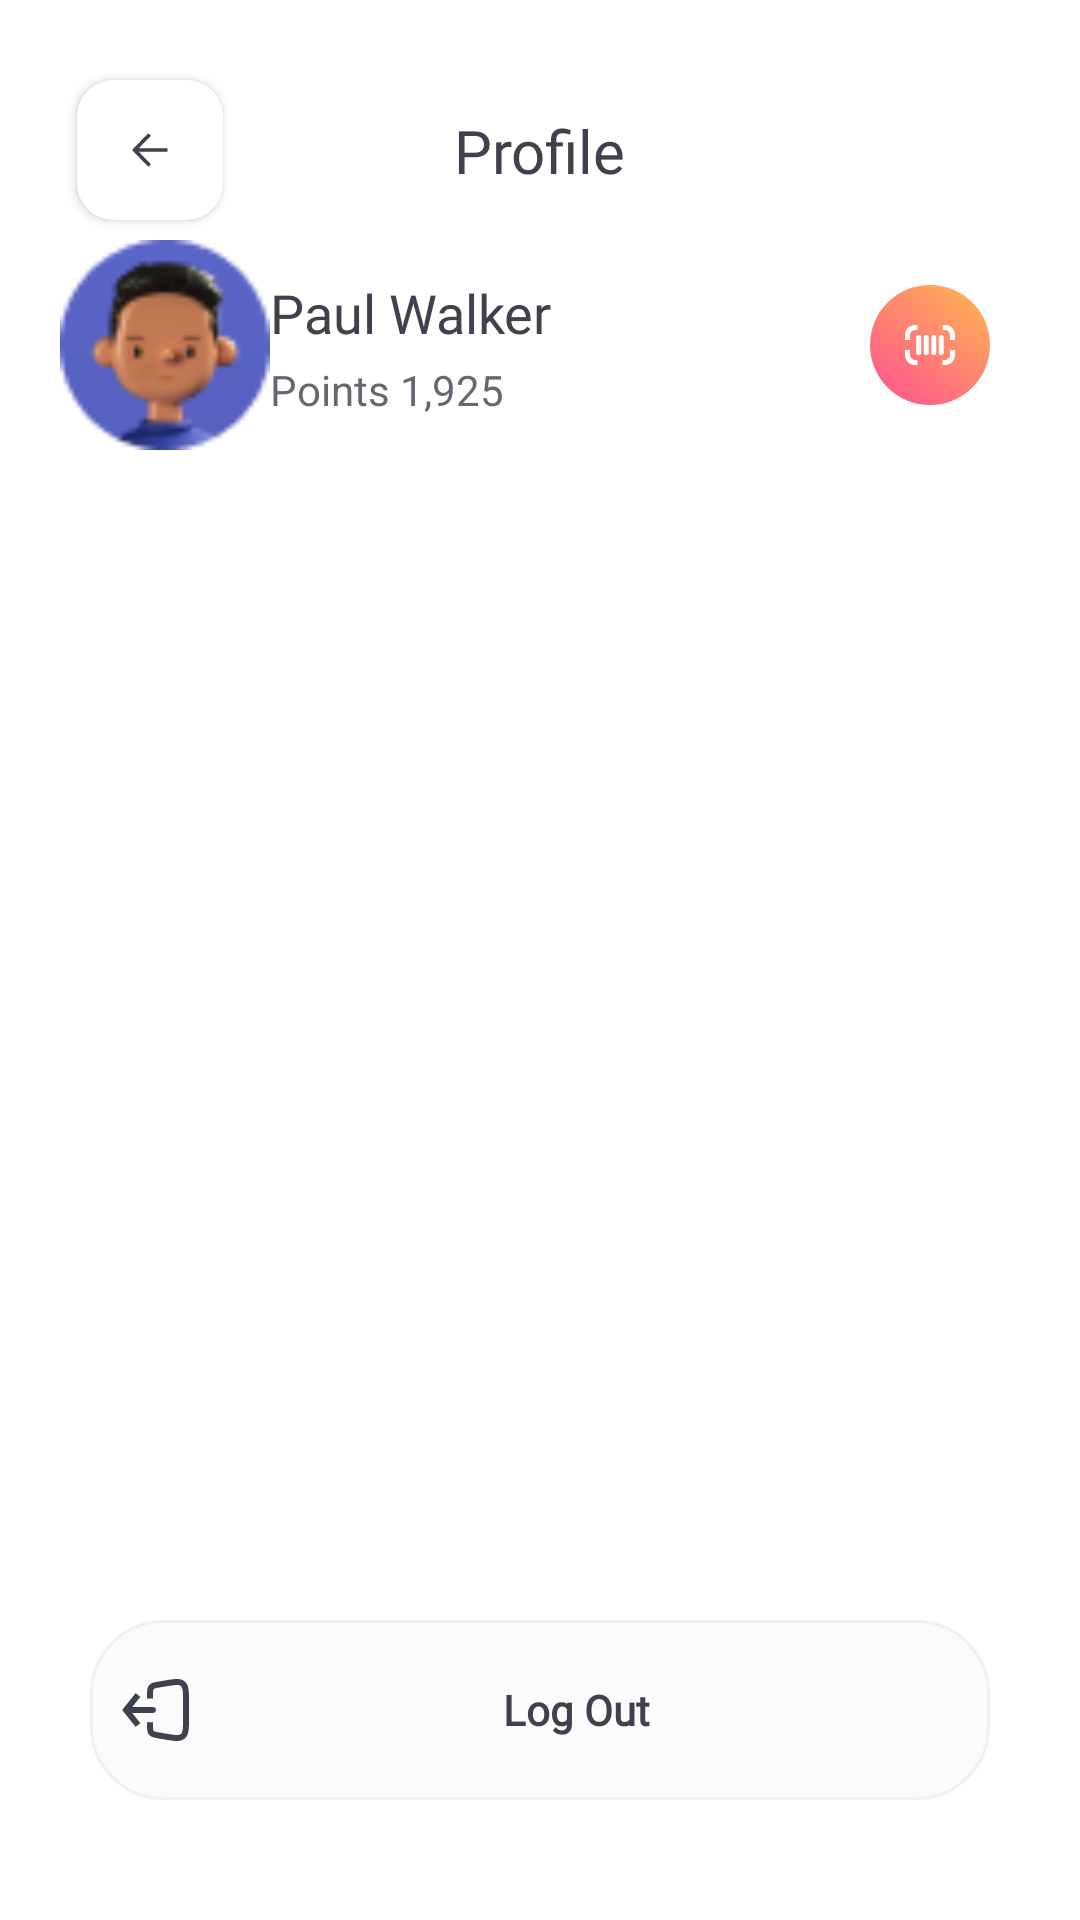

Named icons in this screenshot (1080×1920) and their centers, [x,y]:
back: [137,150]
profile: [165,345]
scan: [930,345]
